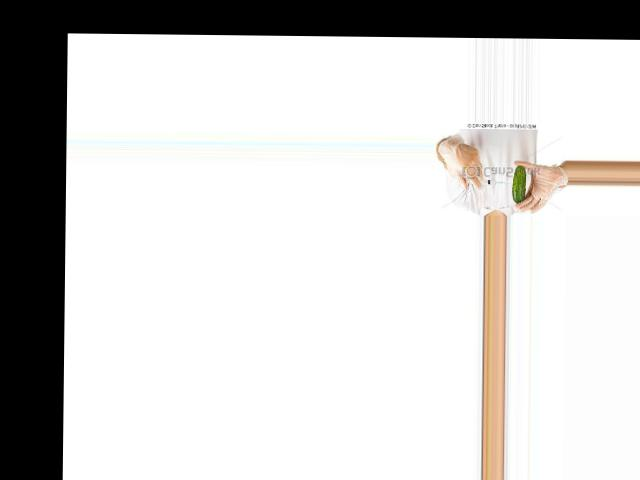cucumber: (513, 165, 527, 204)
